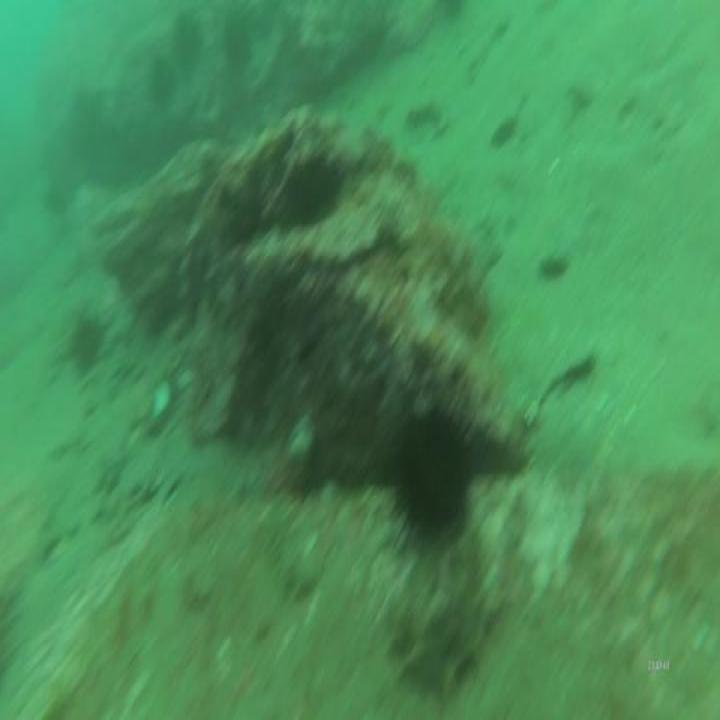echinus: (383, 390, 485, 558)
holothurian: (385, 535, 501, 706)
